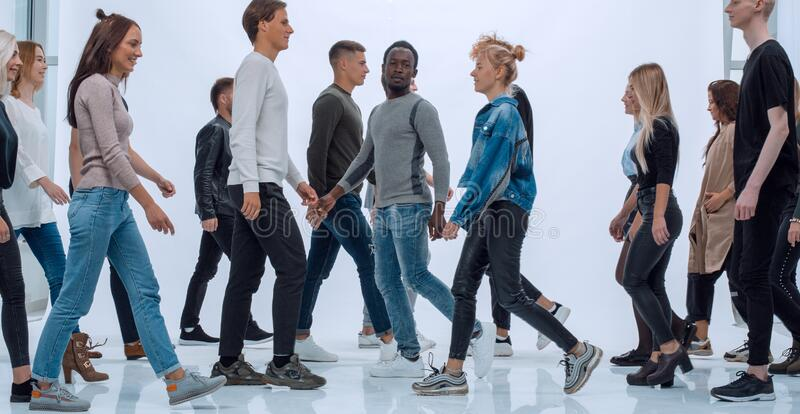person: (28, 8, 226, 412), (415, 35, 607, 397), (311, 42, 497, 383), (212, 1, 329, 391), (290, 39, 396, 359), (12, 40, 108, 383), (722, 1, 800, 407), (176, 76, 275, 344), (625, 60, 696, 389), (687, 79, 753, 362), (1, 26, 36, 403)
